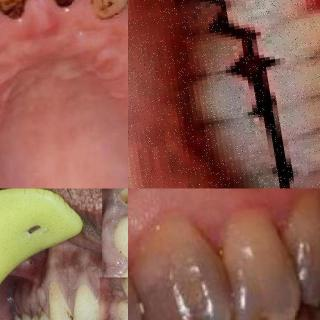calculus: (63, 305, 79, 320), (124, 288, 128, 310)
stains: (0, 0, 38, 16), (92, 0, 128, 14), (33, 0, 92, 8), (312, 291, 320, 310)
